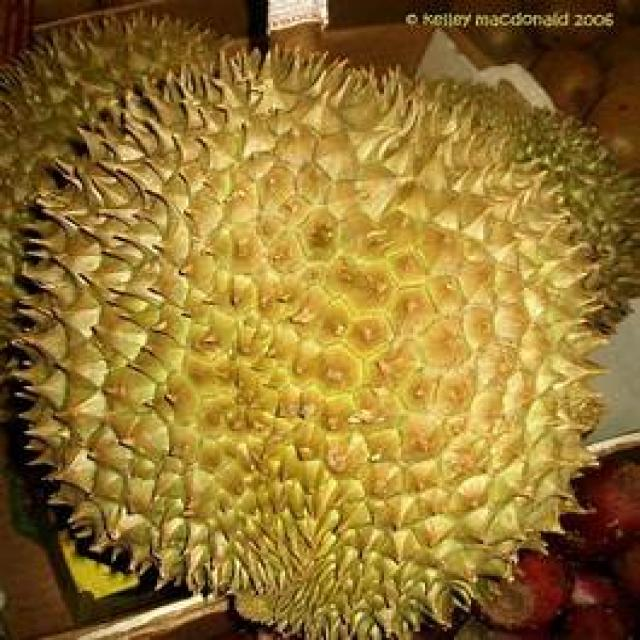mature: (14, 52, 600, 640)
